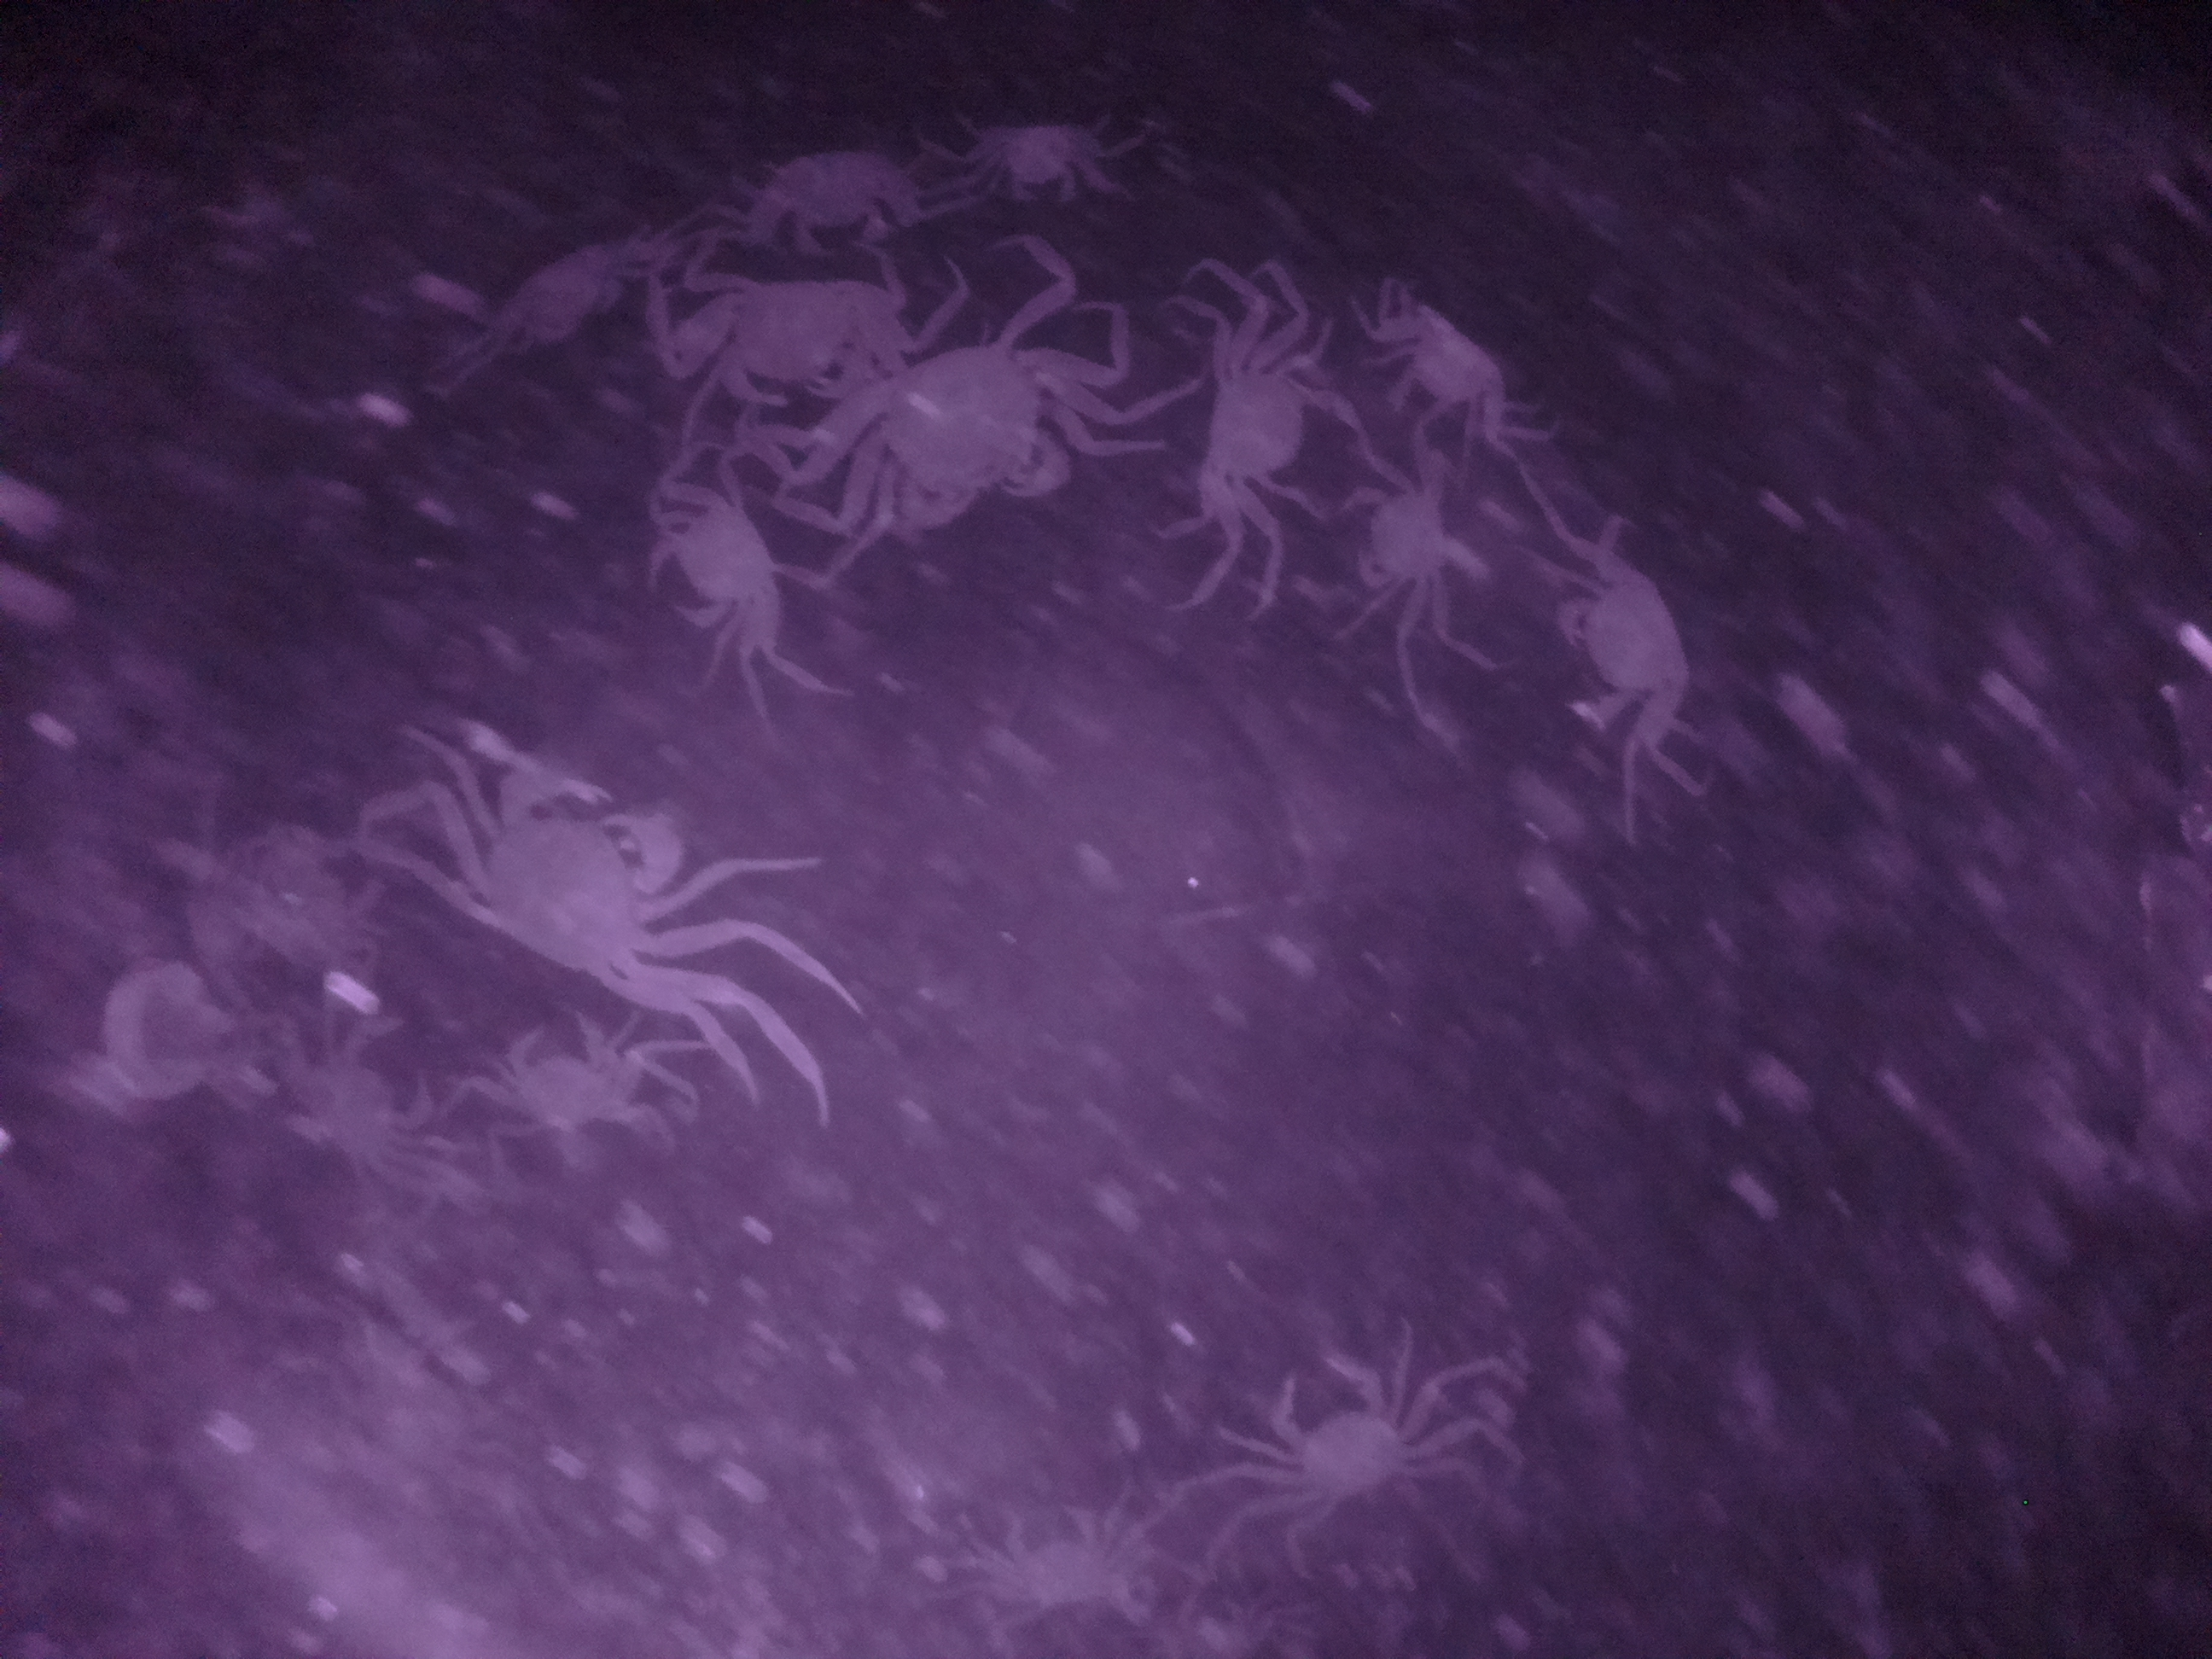Crab: (448, 749, 685, 1006), (833, 310, 1080, 554), (1247, 1344, 1428, 1540), (1184, 310, 1343, 509), (1555, 554, 1707, 751), (634, 467, 798, 648), (1327, 474, 1470, 612)
